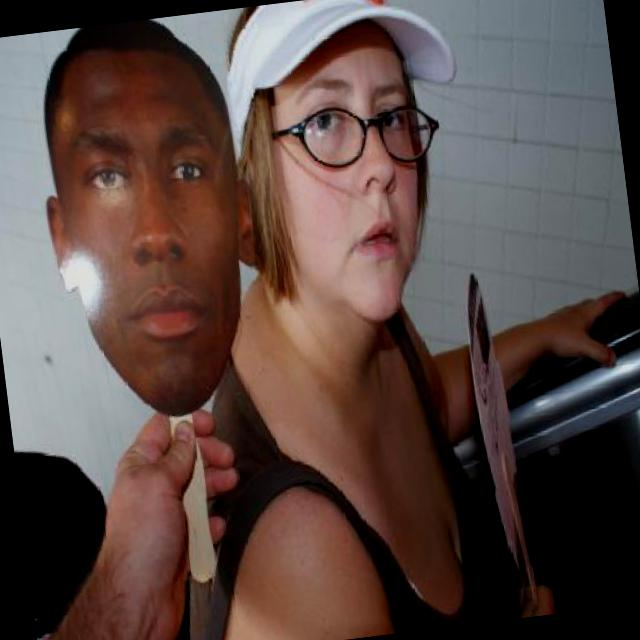Person: (111, 0, 640, 640), (22, 9, 275, 429), (458, 267, 532, 574)
